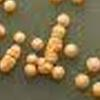yellow: (0, 55, 17, 75), (73, 72, 91, 90), (49, 63, 66, 82), (45, 37, 64, 53), (36, 61, 55, 77), (55, 11, 72, 28), (4, 44, 22, 60), (63, 42, 79, 59), (21, 63, 38, 79), (85, 55, 100, 73), (29, 36, 45, 52), (11, 30, 27, 45), (90, 79, 100, 99), (2, 0, 17, 13), (44, 51, 59, 64), (25, 52, 38, 66), (52, 24, 66, 35), (49, 31, 65, 40), (35, 56, 46, 68), (0, 22, 7, 40), (69, 0, 85, 7), (49, 0, 63, 6), (0, 0, 4, 4)
